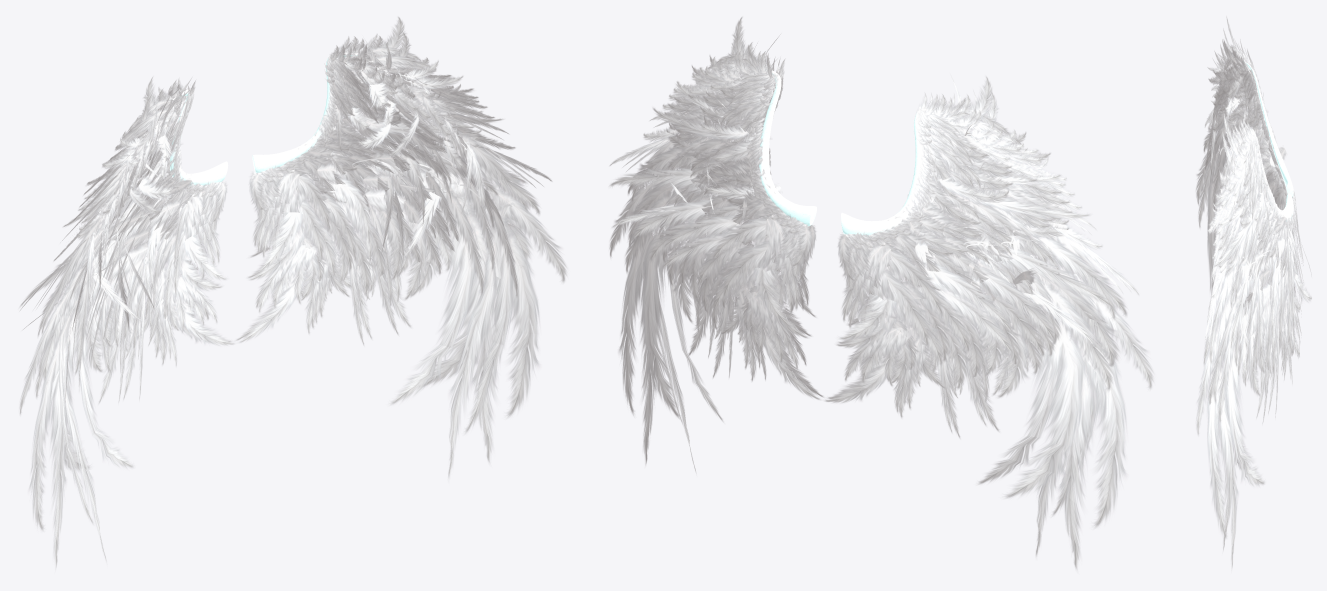
3 views of the same model, side by side, from view 1: azimuth 30°, elevation 25°; view 2: azimuth 150°, elevation 25°; view 3: azimuth 270°, elevation 25° (orthographic). The views are drawn at different scales.
Visible parts, largest first — view 1: polySurface2197_Feather_0_4, polySurface2631_Feather_0_7, polySurface2197_Wing_0_5, polySurface2631_Wing_0_8; view 2: polySurface2631_Feather_0_7, polySurface2197_Feather_0_4, polySurface2197_Wing_0_5, polySurface2631_Wing_0_8; view 3: polySurface2197_Feather_0_4, polySurface2631_Feather_0_7, polySurface2631_Wing_0_8, polySurface2197_Wing_0_5.
Boxes of the visible parts, x1=… form: polySurface2197_Feather_0_4: x1=235, y1=16, x2=567, y2=479; polySurface2631_Feather_0_7: x1=19, y1=77, x2=235, y2=569; polySurface2197_Wing_0_5: x1=252, y1=52, x2=358, y2=172; polySurface2631_Wing_0_8: x1=170, y1=89, x2=228, y2=185; polySurface2631_Feather_0_7: x1=824, y1=76, x2=1153, y2=570; polySurface2197_Feather_0_4: x1=609, y1=17, x2=823, y2=473; polySurface2197_Wing_0_5: x1=759, y1=68, x2=816, y2=226; polySurface2631_Wing_0_8: x1=841, y1=109, x2=936, y2=235; polySurface2197_Feather_0_4: x1=1196, y1=111, x2=1311, y2=570; polySurface2631_Feather_0_7: x1=1196, y1=16, x2=1311, y2=348; polySurface2631_Wing_0_8: x1=1242, y1=60, x2=1293, y2=196; polySurface2197_Wing_0_5: x1=1245, y1=129, x2=1293, y2=221.
Bounding box in the file's own units: 1.75 × 1.44 × 0.3804.
Materials: 2 (2 with a texture image).
